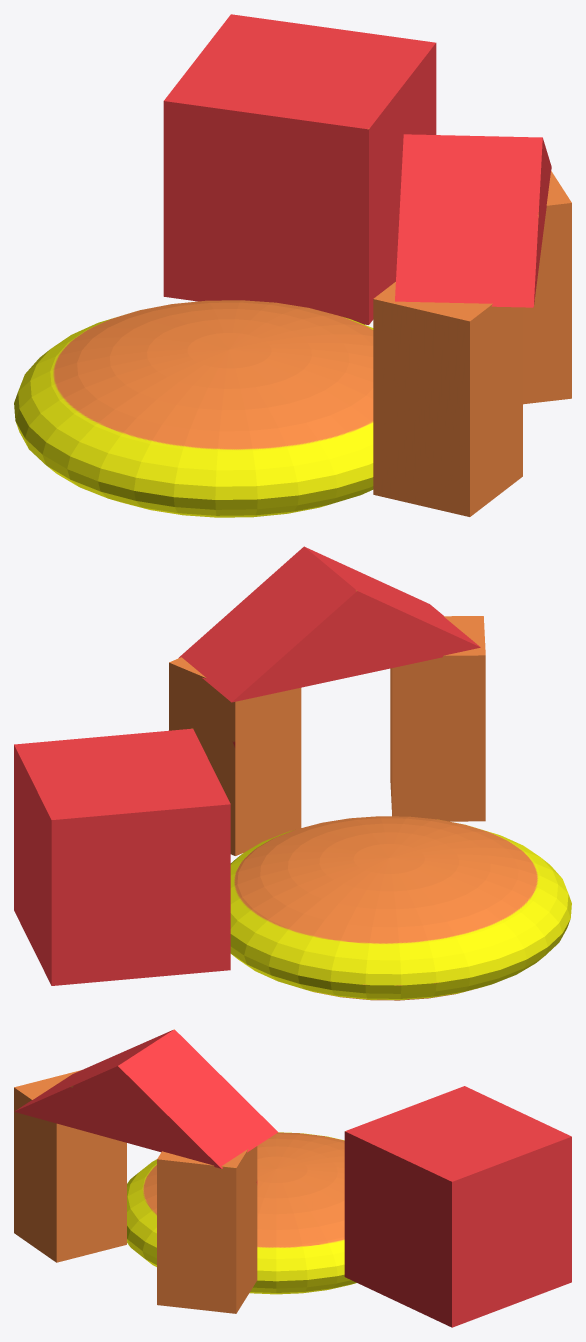
The model's file is stage.obj.
3 views of the same model, one above another, from view 1: azimuth 30°, elevation 25°; view 2: azimuth 150°, elevation 25°; view 3: azimuth 270°, elevation 25° (orthographic). The views are drawn at different scales.
Parts seen in each view (by area): view 1: 球; view 2: 球; view 3: 球.
Part boxes in pixels (x1=…): 球: x1=14, y1=14, x2=571, y2=517; 球: x1=14, y1=546, x2=571, y2=1000; 球: x1=14, y1=1029, x2=571, y2=1327.
Size of the model in its own units: 2.74 by 1.83 by 3.47.
1 material, 1 textured.
